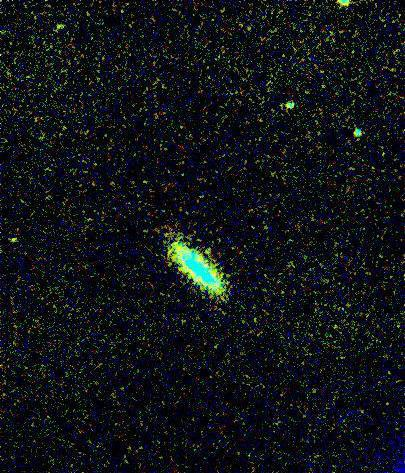star: (190, 242, 220, 272)
